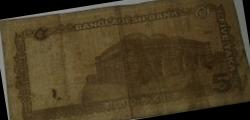5 taka: (8, 4, 239, 120)
